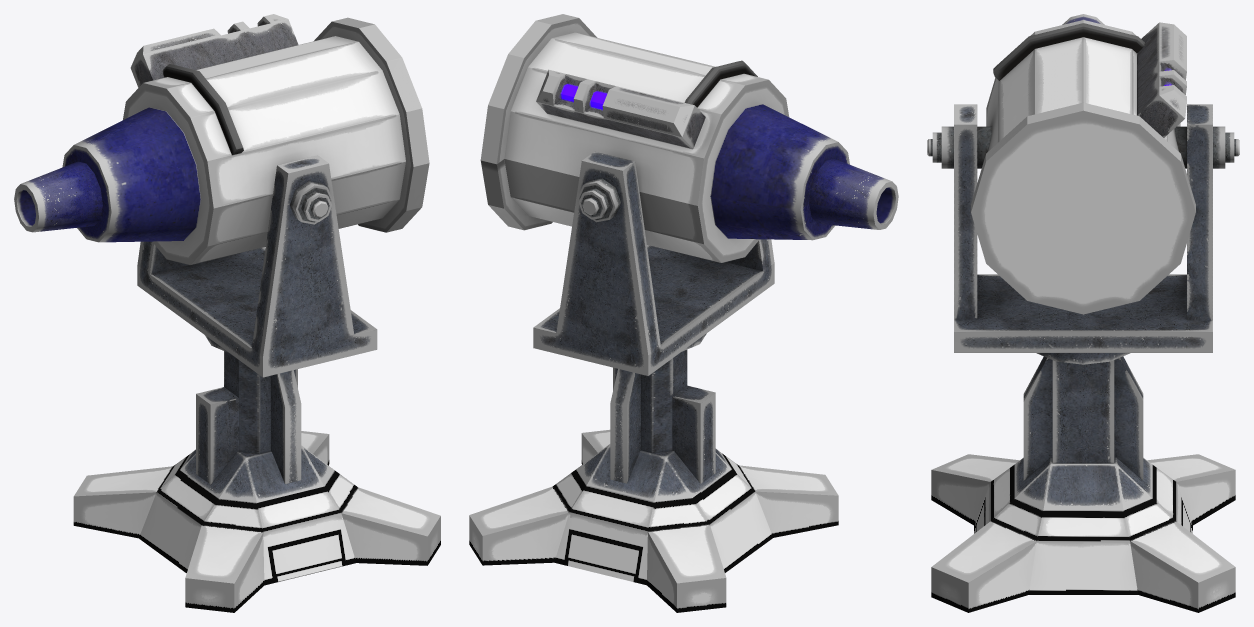
The model's file is big_ice_turret.glb.
3 renders of one model, left to right at view 1: azimuth 30°, elevation 25°; view 2: azimuth 150°, elevation 25°; view 3: azimuth 270°, elevation 25°, orthographic. The views are drawn at different scales.
Parts seen in each view (by area): view 1: polySurface12; view 2: polySurface12; view 3: polySurface12.
Part boxes in pixels (<box>): polySurface12: <box>14,14,440,612</box>; polySurface12: <box>469,14,898,612</box>; polySurface12: <box>927,14,1239,612</box>.
Bounding box in the file's own units: 804 × 1033 × 588.
1 material, 1 textured.
